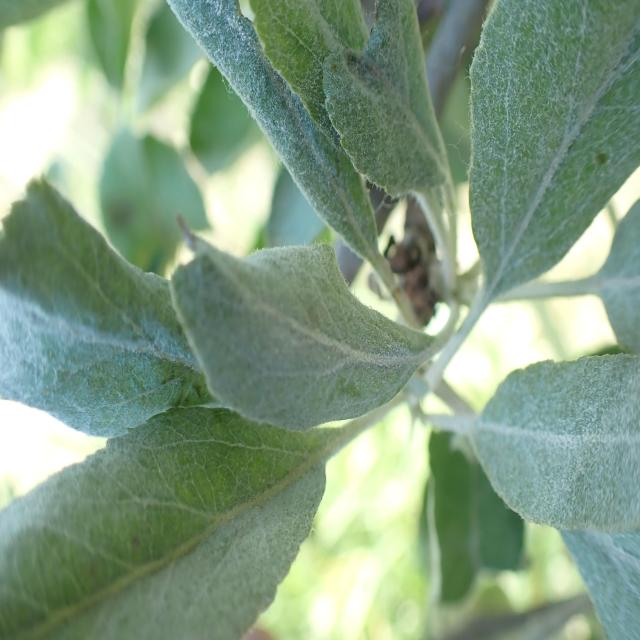Powdery_mildew: (0, 417, 325, 640), (152, 209, 436, 442), (0, 132, 195, 445), (456, 0, 640, 322), (166, 0, 382, 263), (454, 338, 640, 558), (312, 7, 461, 269)
